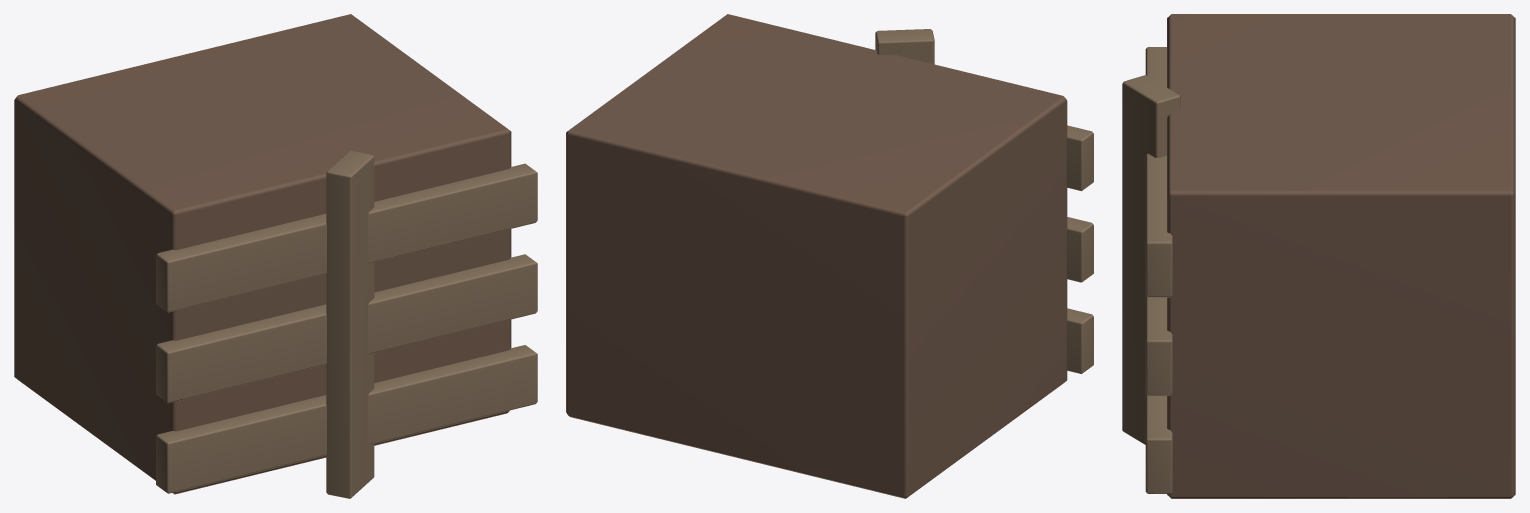
Rendered from prop_wooden_crate_01.glb.
3 views of the same model, side by side, from view 1: azimuth 30°, elevation 25°; view 2: azimuth 150°, elevation 25°; view 3: azimuth 270°, elevation 25° (orthographic). The views are drawn at different scales.
Parts seen in each view (by area): view 1: crate_core_dark.002, crate_front_plank_02.002, crate_front_plank_01.002, crate_front_plank_03.002, crate_side_slash.002; view 2: crate_core_dark.002, crate_side_slash.002, crate_front_plank_01.002, crate_front_plank_02.002, crate_front_plank_03.002; view 3: crate_core_dark.002, crate_side_slash.002, crate_front_plank_01.002, crate_front_plank_02.002, crate_front_plank_03.002.
Boxes of the visible parts, x1=… form: crate_core_dark.002: x1=14, y1=14, x2=511, y2=494; crate_front_plank_02.002: x1=156, y1=254, x2=537, y2=402; crate_front_plank_01.002: x1=156, y1=163, x2=537, y2=312; crate_front_plank_03.002: x1=156, y1=345, x2=537, y2=493; crate_side_slash.002: x1=326, y1=150, x2=374, y2=498; crate_core_dark.002: x1=566, y1=14, x2=1067, y2=498; crate_side_slash.002: x1=875, y1=29, x2=934, y2=64; crate_front_plank_01.002: x1=1066, y1=125, x2=1093, y2=191; crate_front_plank_02.002: x1=1066, y1=217, x2=1093, y2=282; crate_front_plank_03.002: x1=1066, y1=308, x2=1093, y2=373; crate_core_dark.002: x1=1167, y1=14, x2=1515, y2=498; crate_side_slash.002: x1=1122, y1=75, x2=1180, y2=444; crate_front_plank_01.002: x1=1145, y1=47, x2=1172, y2=297; crate_front_plank_02.002: x1=1145, y1=296, x2=1172, y2=395; crate_front_plank_03.002: x1=1145, y1=394, x2=1172, y2=493.
Bounding box in the file's own units: 0.6 × 0.5 × 0.5076.
